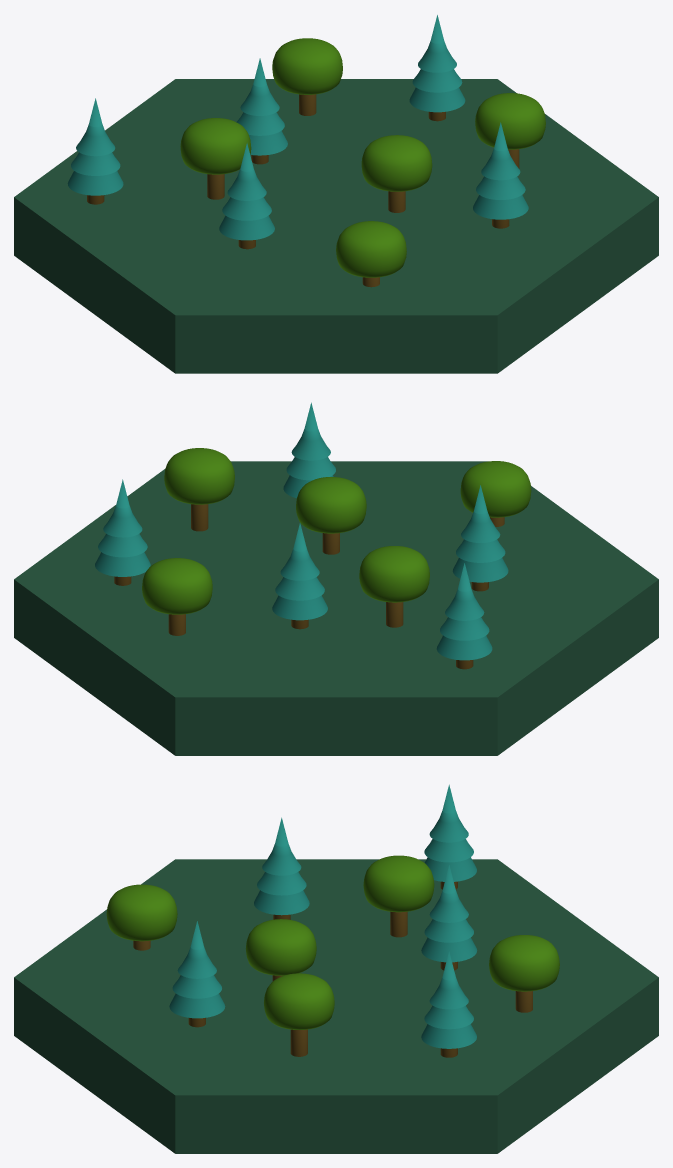
The model's file is forestHexFinal.fbx.
3 renders of one model, top to bottom at view 1: azimuth 30°, elevation 25°; view 2: azimuth 150°, elevation 25°; view 3: azimuth 270°, elevation 25°, orthographic.
Visible parts, largest first — view 1: Cube, Sphere.001, Cone.001, Cylinder.004; view 2: Cube, Sphere.001, Cone.001, Cylinder.004; view 3: Cube, Sphere.001, Cone.001, Cylinder.004.
Part boxes in pixels (left/top/right/bottom): Cube: left=14, top=79, right=658, bottom=373; Sphere.001: left=180, top=38, right=545, bottom=277; Cone.001: left=67, top=15, right=528, bottom=240; Cylinder.004: left=87, top=94, right=519, bottom=287; Cube: left=14, top=461, right=658, bottom=755; Sphere.001: left=142, top=448, right=531, bottom=614; Cone.001: left=95, top=402, right=508, bottom=660; Cylinder.004: left=114, top=504, right=504, bottom=669; Cube: left=14, top=859, right=658, bottom=1153; Sphere.001: left=106, top=855, right=559, bottom=1029; Cone.001: left=169, top=784, right=477, bottom=1048; Cylinder.004: left=133, top=881, right=532, bottom=1057.
Size of the model in its own units: 173 by 55.32 by 200.
